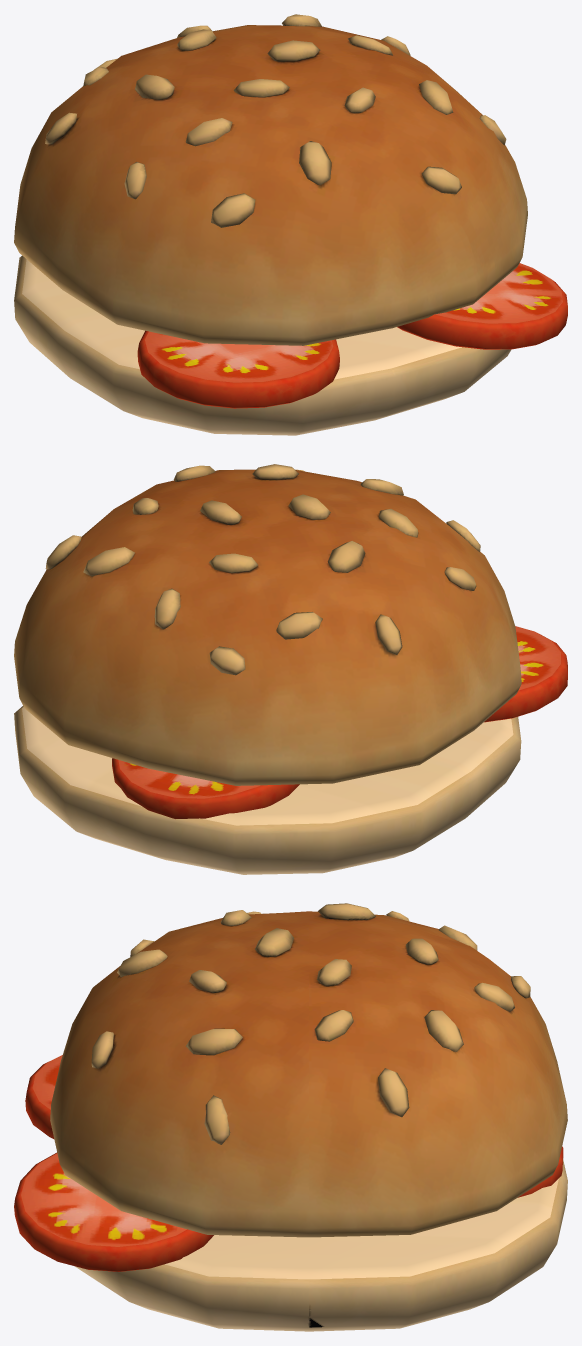
File: Tomato_burger.fbx
The picture shows the model from 3 angles, top to bottom: view 1: azimuth 30°, elevation 25°; view 2: azimuth 150°, elevation 25°; view 3: azimuth 270°, elevation 25°; orthographic projection. The views are drawn at different scales.
Parts seen in each view (by area): view 1: m_ingredients_bun_lid_01_0, m_ingredients_bun_base_01_0, m_recipe_lettuce_tomato_burger_01_0; view 2: m_ingredients_bun_lid_01_0, m_ingredients_bun_base_01_0, m_recipe_lettuce_tomato_burger_01_0; view 3: m_ingredients_bun_lid_01_0, m_ingredients_bun_base_01_0, m_recipe_lettuce_tomato_burger_01_0.
Part boxes in pixels (<box>): m_ingredients_bun_lid_01_0: <box>14,14,527,345</box>; m_ingredients_bun_base_01_0: <box>14,255,511,435</box>; m_recipe_lettuce_tomato_burger_01_0: <box>137,263,567,408</box>; m_ingredients_bun_lid_01_0: <box>14,464,521,785</box>; m_ingredients_bun_base_01_0: <box>14,706,521,874</box>; m_recipe_lettuce_tomato_burger_01_0: <box>112,626,567,818</box>; m_ingredients_bun_lid_01_0: <box>50,903,567,1237</box>; m_ingredients_bun_base_01_0: <box>75,1159,567,1331</box>; m_recipe_lettuce_tomato_burger_01_0: <box>14,1055,563,1271</box>.
Bounding box in the file's own units: 0.6178 × 0.3919 × 0.668.
